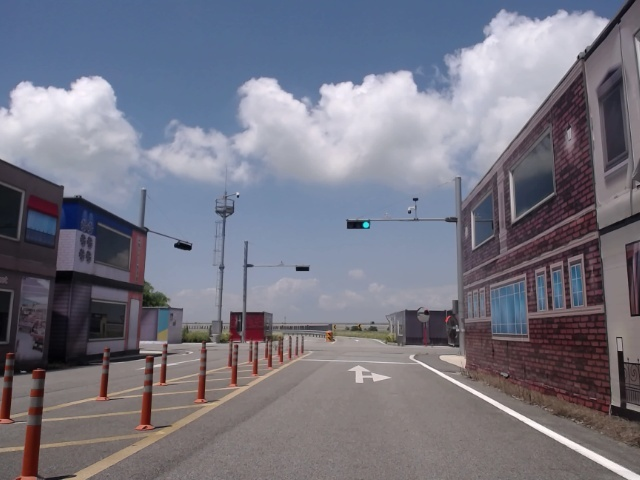green_3: (348, 221, 369, 229)
